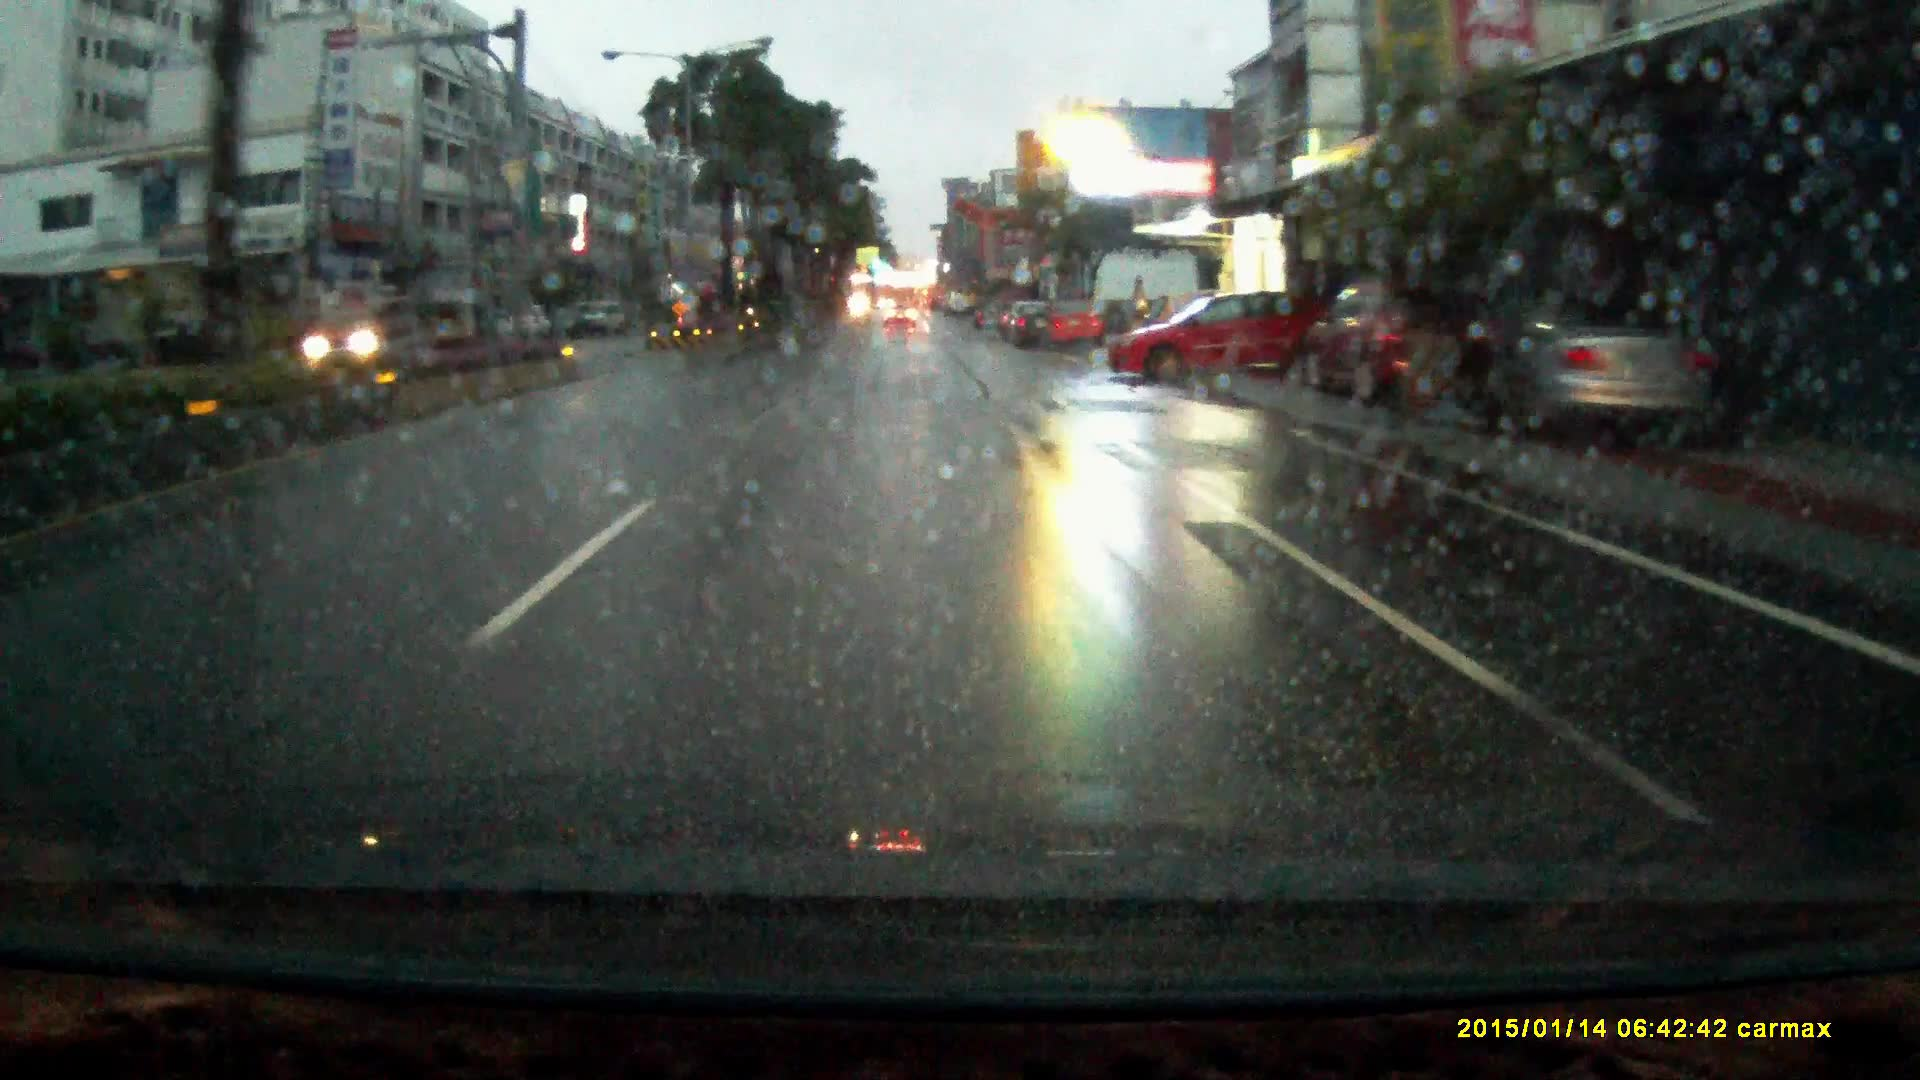vehicle: (1494, 293, 1735, 458), (1302, 276, 1509, 419), (1104, 290, 1327, 384), (291, 298, 419, 364), (1030, 301, 1105, 352), (1000, 301, 1056, 349), (579, 301, 629, 338), (885, 305, 916, 334)
